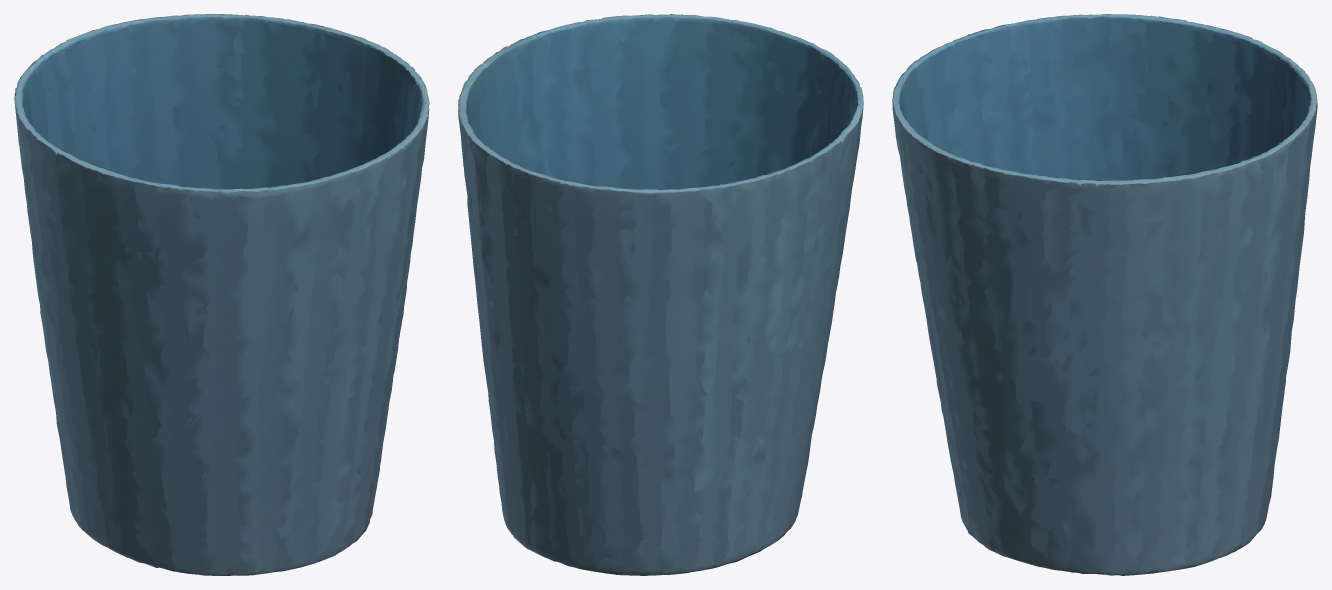
The model's file is 0000_mask_001_blue_cup.glb.
3 renders of one model, left to right at view 1: azimuth 30°, elevation 25°; view 2: azimuth 150°, elevation 25°; view 3: azimuth 270°, elevation 25°, orthographic.
Parts seen in each view (by area): view 1: mask_001_object; view 2: mask_001_object; view 3: mask_001_object.
Part boxes in pixels (<box>): mask_001_object: <box>14,14,429,575</box>; mask_001_object: <box>458,14,863,575</box>; mask_001_object: <box>892,14,1317,575</box>.
Size of the model in its own units: 0.1338 by 0.1517 by 0.14.
